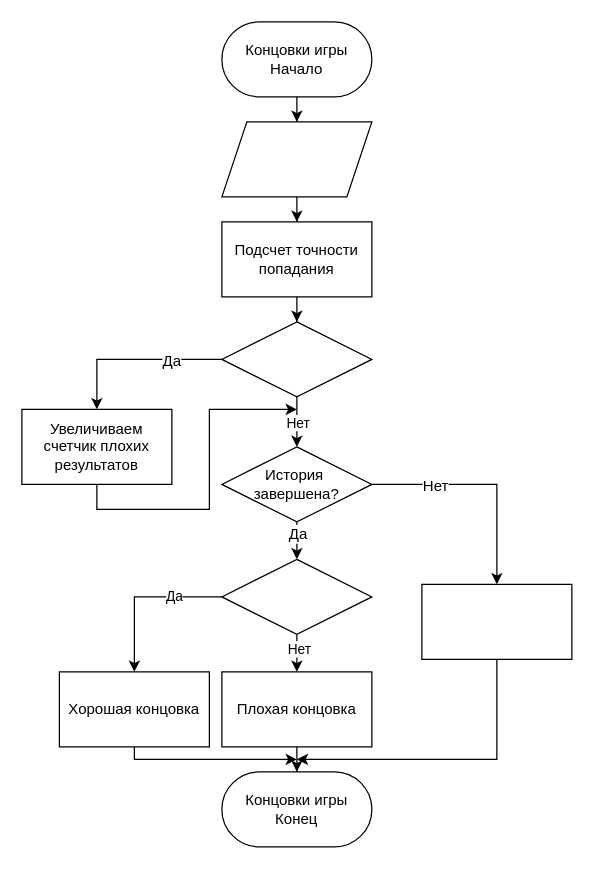
Some shapes in this 594 by 869 pixel diagram are drawn without their labels. Each missing label, with the centre of its shape:
Плохих результатов<2?: point 296,596
Получаем информацию о завершении ритм-сцены: point 296,159
Следующая сцена новеллы: point 496,621
Точность<50?: point 296,359
